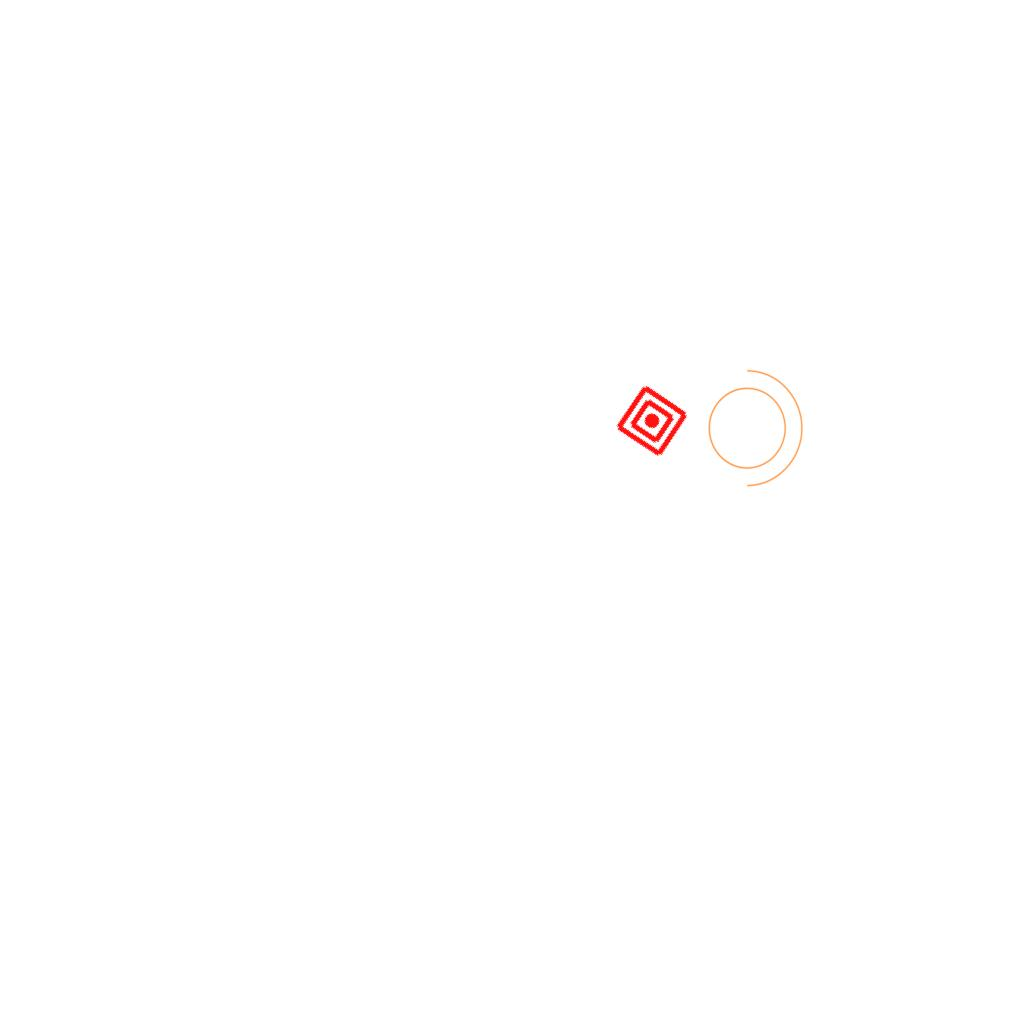NAM-Nichtautomatischer_Melder: (613, 382, 691, 460)
Scheinwerfer_fuer_Alarmbeleuchtung: (696, 359, 808, 491)
